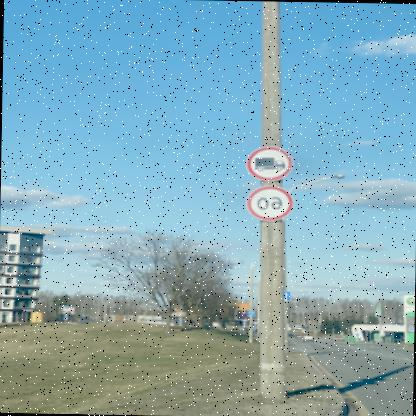speedlimit: (249, 184, 296, 218)
